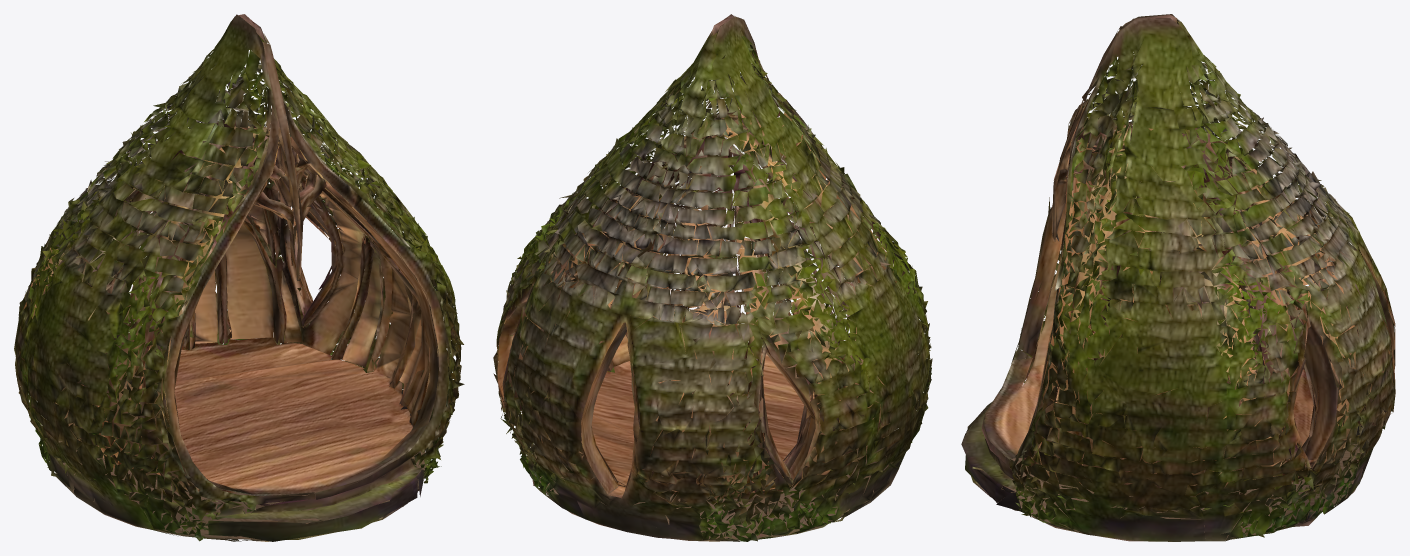
The model's file is Mosswood_Teardrop_Hou_town.glb.
The picture shows the model from 3 angles, left to right: view 1: azimuth 30°, elevation 25°; view 2: azimuth 150°, elevation 25°; view 3: azimuth 270°, elevation 25°; orthographic projection. The views are drawn at different scales.
Visible parts, largest first — view 1: Mosswood_Teardrop_Hou; view 2: Mosswood_Teardrop_Hou; view 3: Mosswood_Teardrop_Hou.
Boxes of the visible parts, x1,y1,x2,y2 form: Mosswood_Teardrop_Hou: (14, 14, 464, 541); Mosswood_Teardrop_Hou: (493, 14, 932, 541); Mosswood_Teardrop_Hou: (961, 14, 1395, 541).
Bounding box in the file's own units: 1.7 × 1.91 × 1.66.
Materials: 1 (1 with a texture image).
